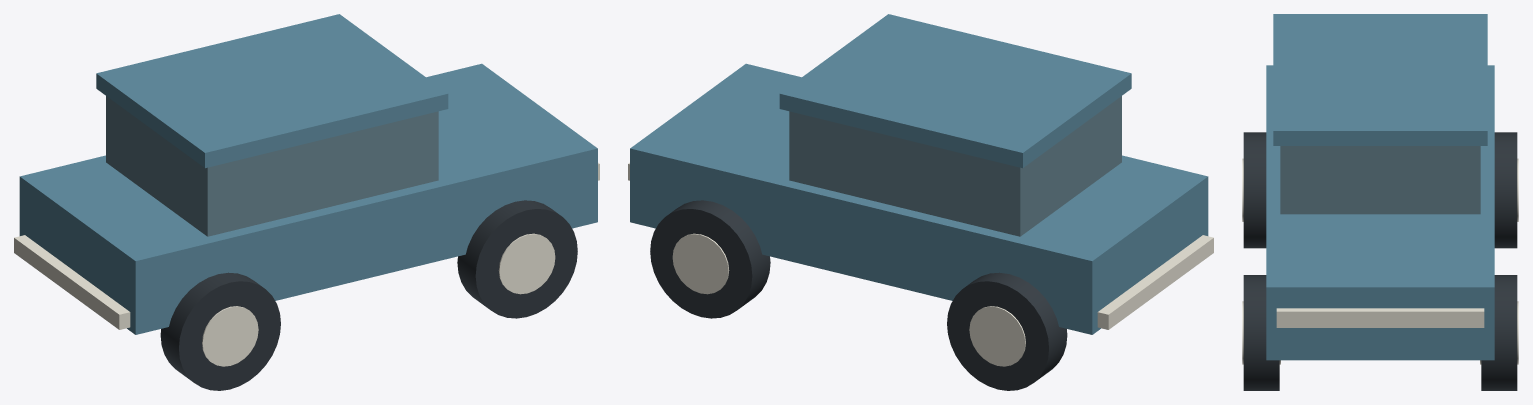
The model's file is studio-rover.glb.
3 renders of one model, left to right at view 1: azimuth 30°, elevation 25°; view 2: azimuth 150°, elevation 25°; view 3: azimuth 270°, elevation 25°, orthographic.
Parts seen in each view (by area): view 1: Body, Roof, Cabin, Wheel front left, Wheel rear left, Wheel hub (×2), Rear bumper; view 2: Body, Roof, Cabin, Wheel front right, Wheel rear right, Wheel hub (×2), Rear bumper; view 3: Body, Roof, Cabin, Front light, Wheel front right, Wheel front left, Wheel rear right, Wheel rear left.
Boxes of the visible parts, bbox=[...] form: Body: bbox=[19, 63, 597, 334]; Roof: bbox=[96, 14, 448, 168]; Cabin: bbox=[106, 96, 438, 236]; Wheel front left: bbox=[457, 200, 577, 318]; Wheel rear left: bbox=[160, 272, 280, 390]; Wheel hub (×2): bbox=[202, 233, 555, 366]; Rear bumper: bbox=[14, 235, 130, 329]; Body: bbox=[630, 63, 1208, 334]; Roof: bbox=[779, 14, 1131, 168]; Cabin: bbox=[789, 96, 1121, 236]; Wheel front right: bbox=[650, 200, 770, 318]; Wheel rear right: bbox=[947, 272, 1067, 390]; Wheel hub (×2): bbox=[672, 233, 1025, 366]; Rear bumper: bbox=[1097, 235, 1213, 329]; Body: bbox=[1266, 65, 1494, 360]; Roof: bbox=[1273, 14, 1487, 145]; Cabin: bbox=[1280, 146, 1480, 214]; Front light: bbox=[1276, 308, 1484, 327]; Wheel front right: bbox=[1481, 275, 1517, 390]; Wheel front left: bbox=[1243, 275, 1279, 390]; Wheel rear right: bbox=[1494, 132, 1517, 248]; Wheel rear left: bbox=[1243, 132, 1266, 248].
Bounding box in the file's own units: 3.95 × 1.79 × 2.
